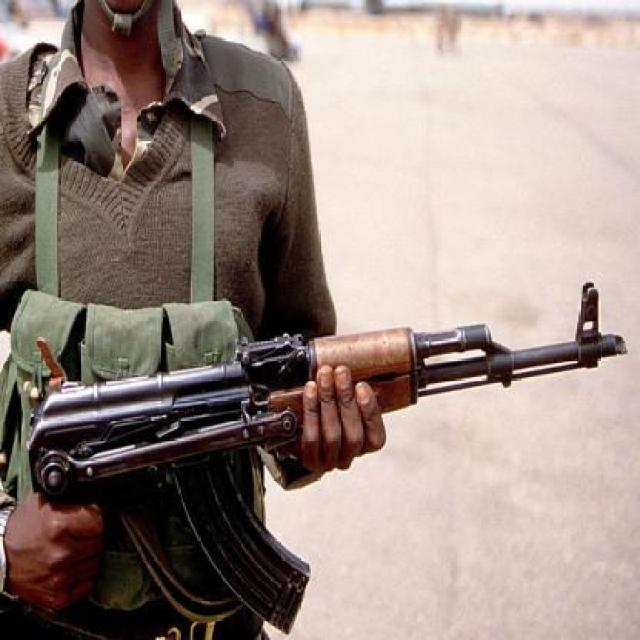weapon: (25, 267, 636, 640)
